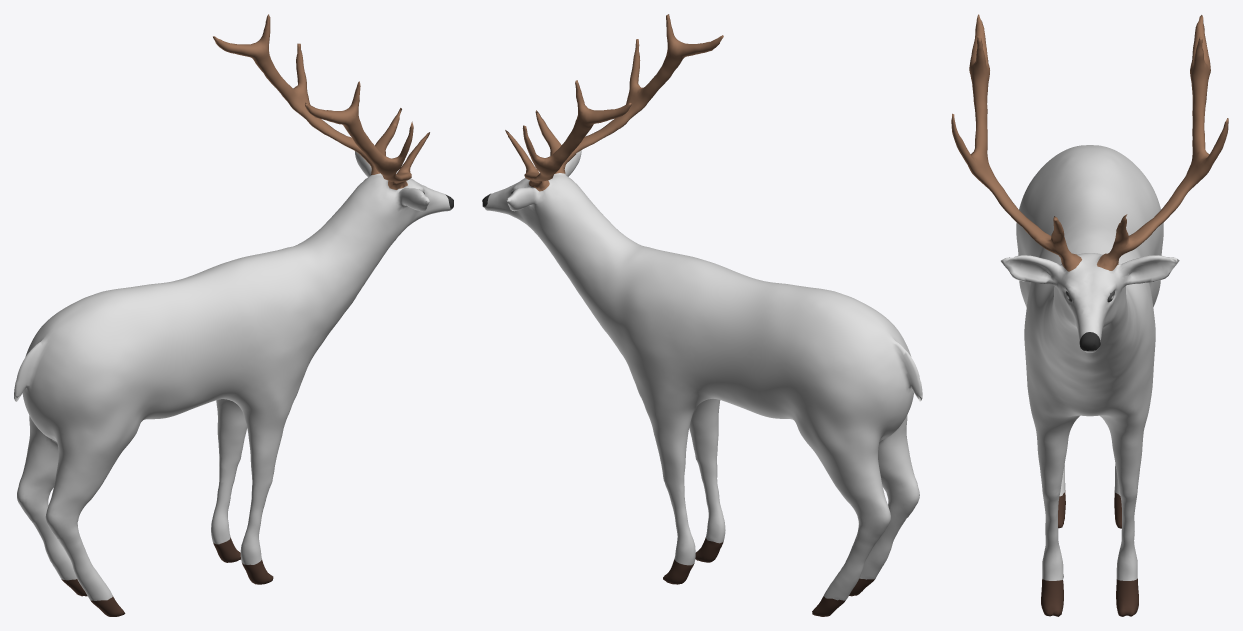
File: DeerRetopologized.fbx
The picture shows the model from 3 angles, left to right: view 1: azimuth 30°, elevation 25°; view 2: azimuth 150°, elevation 25°; view 3: azimuth 270°, elevation 25°; orthographic projection. The views are drawn at different scales.
Visible parts, largest first — view 1: HighPolyDeerRetop; view 2: HighPolyDeerRetop; view 3: HighPolyDeerRetop.
Part boxes in pixels (x1,y1,x2,y2): HighPolyDeerRetop: [14, 14, 453, 616]; HighPolyDeerRetop: [482, 14, 922, 616]; HighPolyDeerRetop: [951, 14, 1228, 616].
Size of the model in its own units: 357 by 395 by 161.
